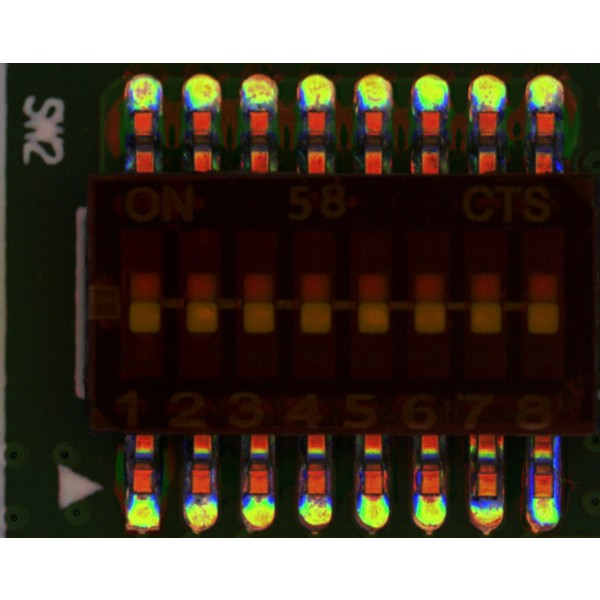Bad_podu: (422, 487, 438, 502), (536, 490, 553, 504), (366, 487, 382, 501)
